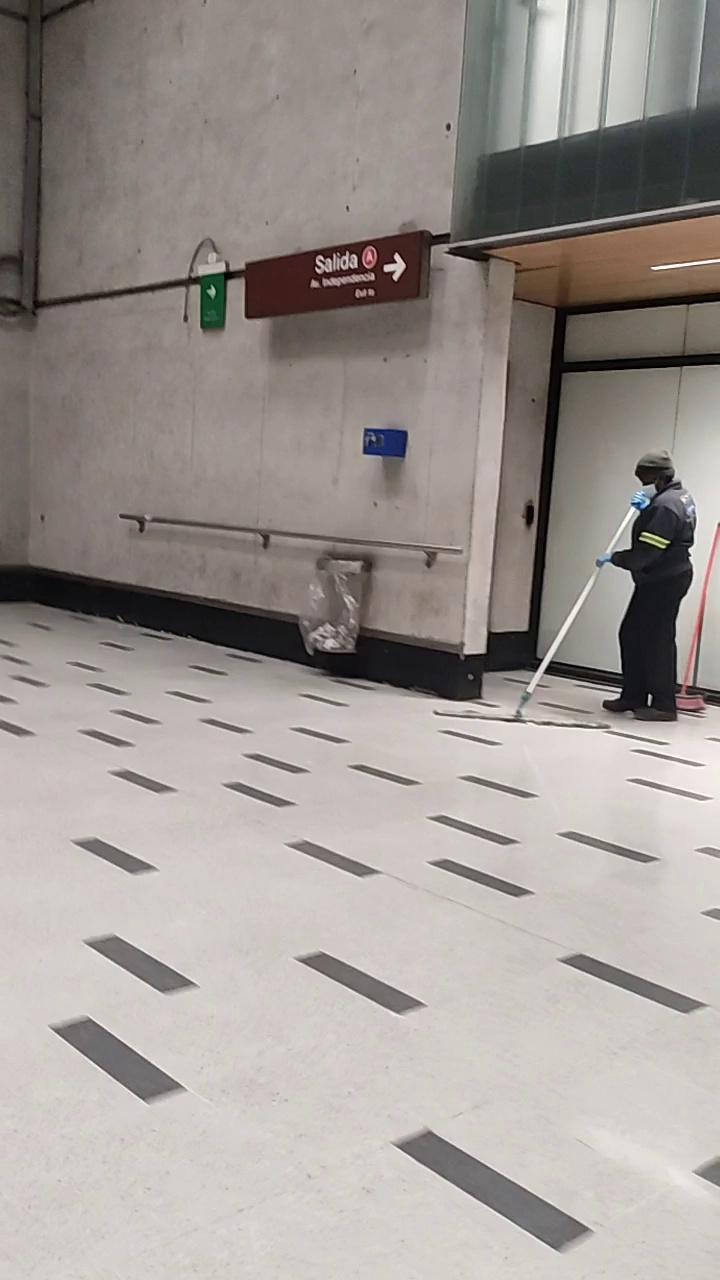emergency right arrow: (203, 283, 219, 302)
right arrow: (378, 248, 410, 282)
